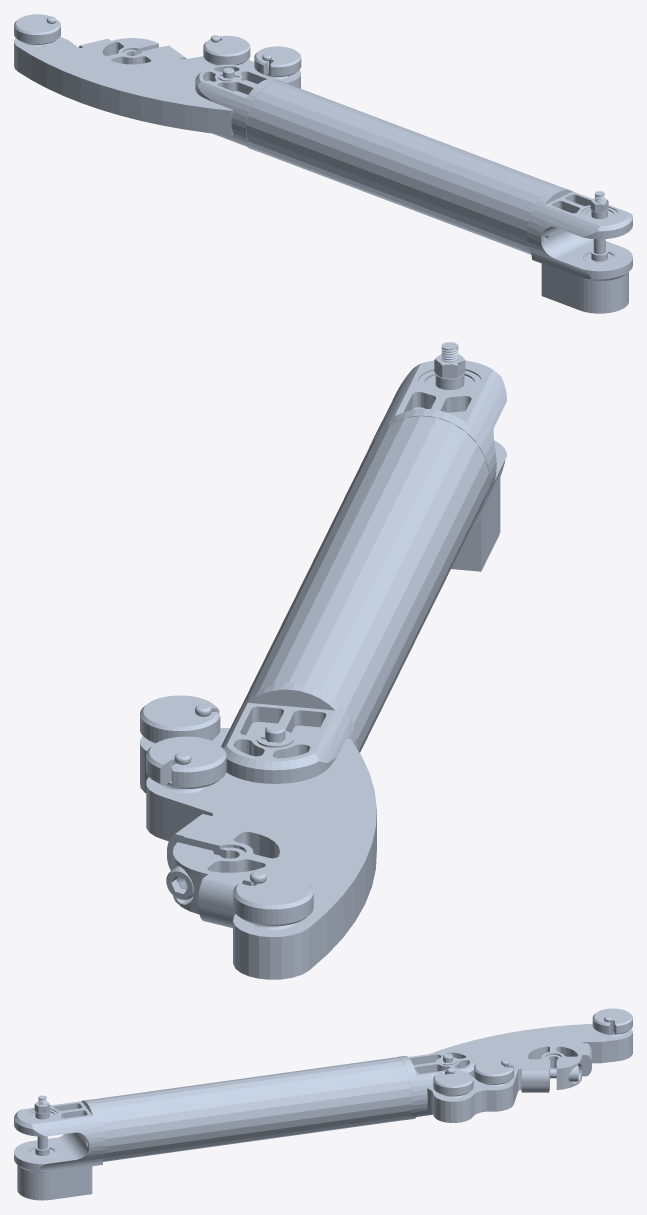
The model's file is tibia.dae.
3 renders of one model, top to bottom at view 1: azimuth 30°, elevation 25°; view 2: azimuth 150°, elevation 25°; view 3: azimuth 270°, elevation 25°, orthographic. The views are drawn at different scales.
Visible parts, largest first — view 1: Tibia; view 2: Tibia; view 3: Tibia.
Boxes of the visible parts, left/top/right/bottom form: Tibia: left=14, top=14, right=632, bottom=313; Tibia: left=140, top=342, right=506, bottom=979; Tibia: left=14, top=1008, right=632, bottom=1200.
Size of the model in its own units: 0.1642 by 0.3683 by 0.0608.
